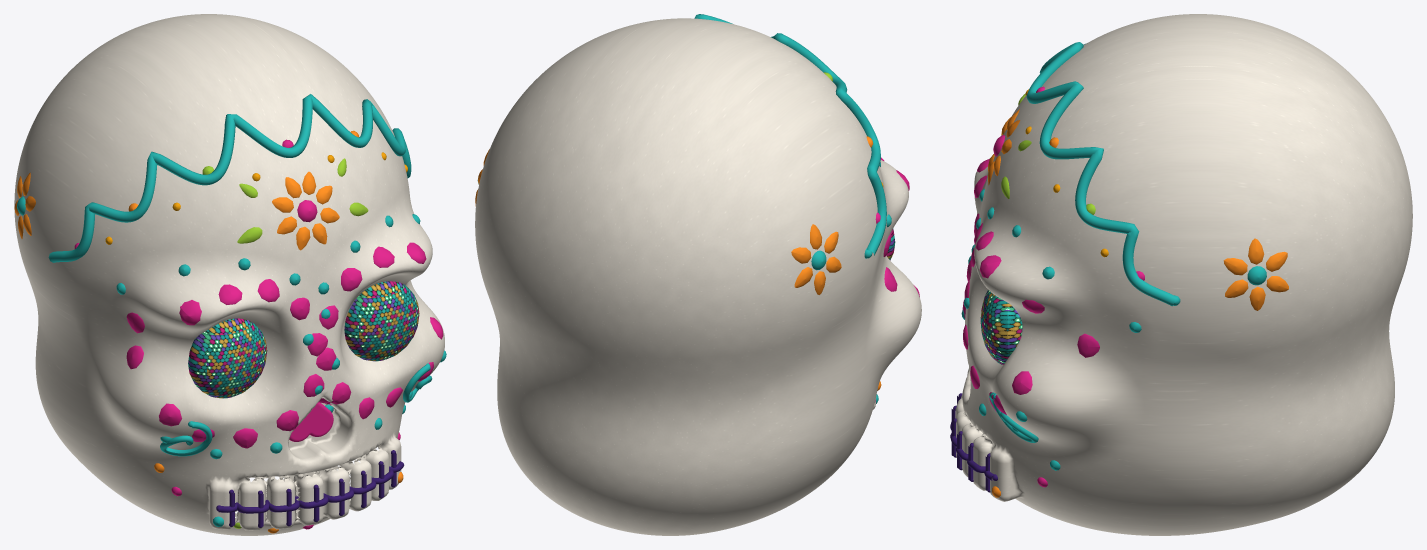
The model's file is sugar_skull_mini.glb.
3 renders of one model, left to right at view 1: azimuth 30°, elevation 25°; view 2: azimuth 150°, elevation 25°; view 3: azimuth 270°, elevation 25°, orthographic. The views are drawn at different scales.
Parts seen in each view (by area): view 1: sugar_skull_mini; view 2: sugar_skull_mini; view 3: sugar_skull_mini.
Boxes of the visible parts, x1=… form: sugar_skull_mini: x1=14, y1=14, x2=446, y2=535; sugar_skull_mini: x1=475, y1=14, x2=921, y2=535; sugar_skull_mini: x1=950, y1=14, x2=1412, y2=535.
Size of the model in its own units: 0.0572 by 0.07 by 0.0626.
Materials: 3 (2 with a texture image).
